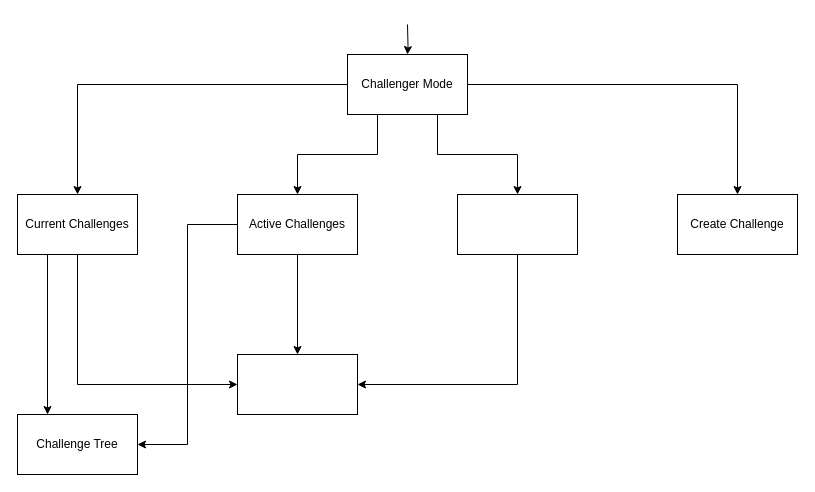
The diagram is 815 pixels wide and 492 high, and some of its shapes have lost their labels. Each missing label, with the centre of its shape:
"Leaderboard" belongs at (x=297, y=384).
"My Challenges" belongs at (x=517, y=224).
